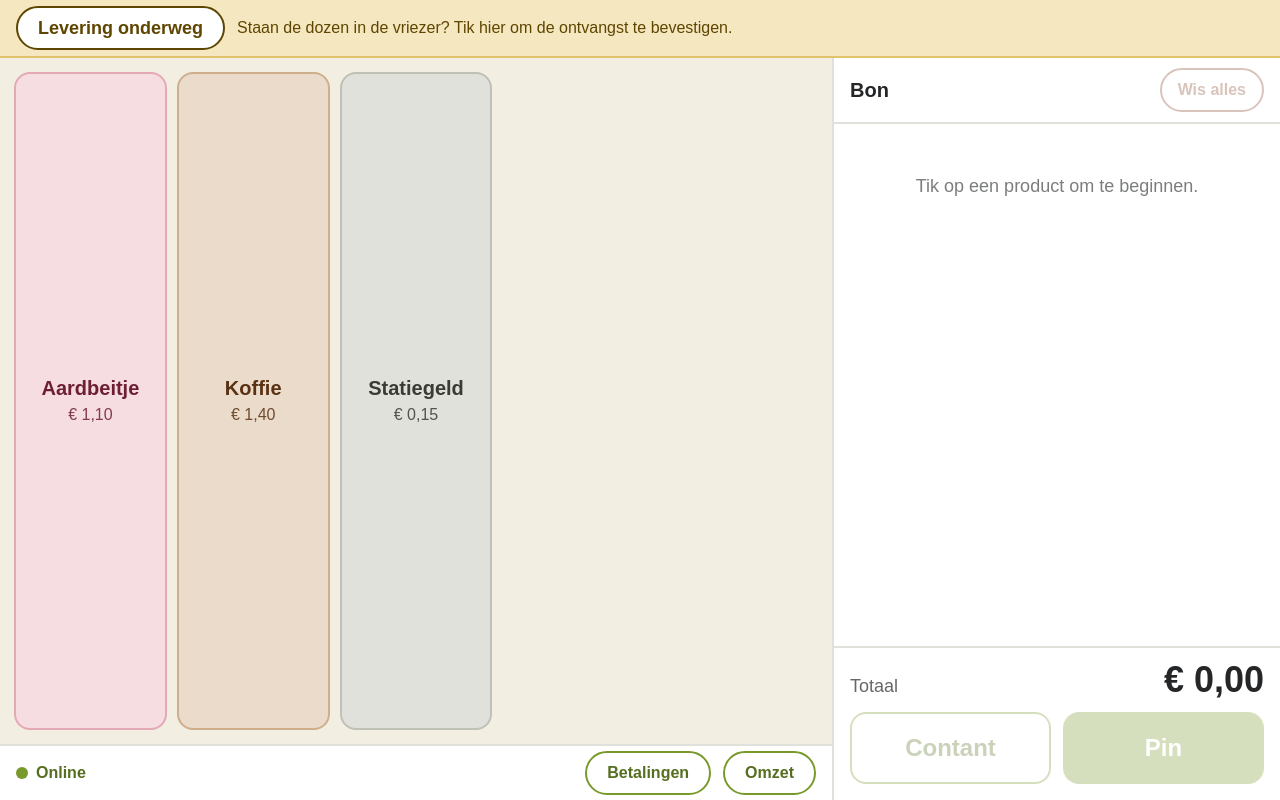
Test case: treats a delivery someone else already confirmed as received
Click the button "Levering onderweg" at (120, 28), box x1=16 y1=6 x2=225 y2=50
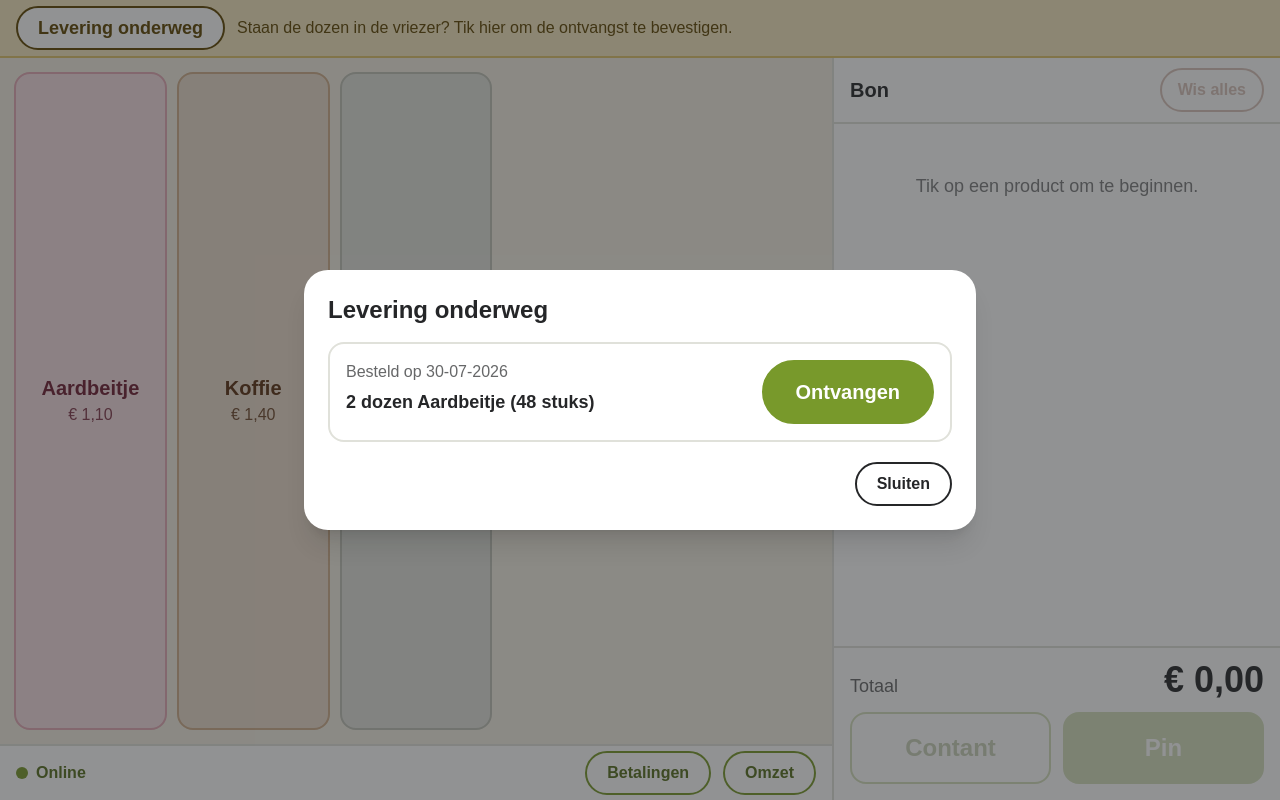
Click the button "Ontvangen" at (848, 392), box x1=762 y1=360 x2=934 y2=424
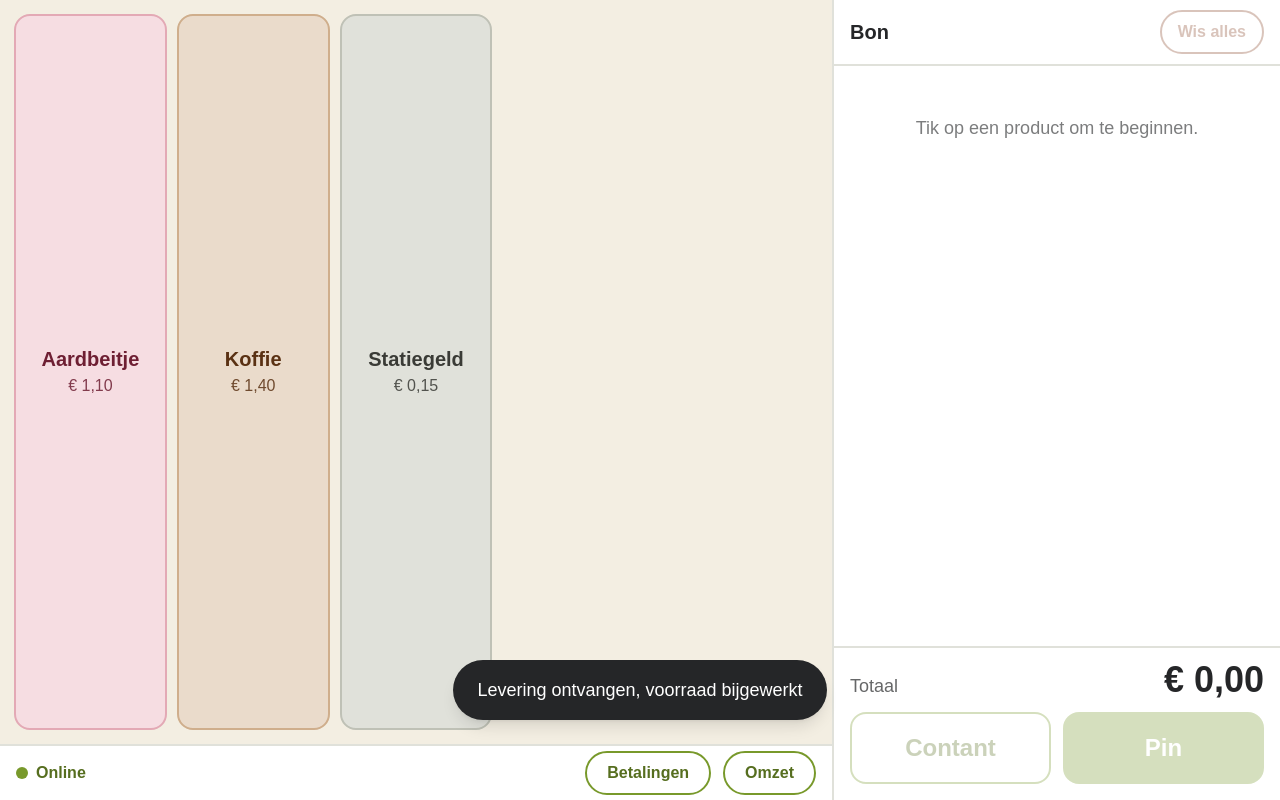
Expected: the text "Levering ontvangen, voorraad bijgewerkt" is shown, x1=477 y1=680 x2=803 y2=700
